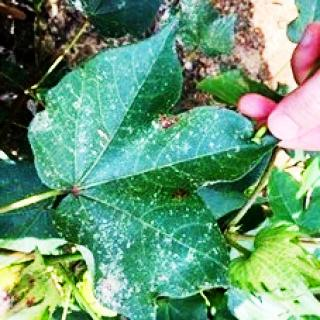grey mildew: (25, 36, 237, 306)
